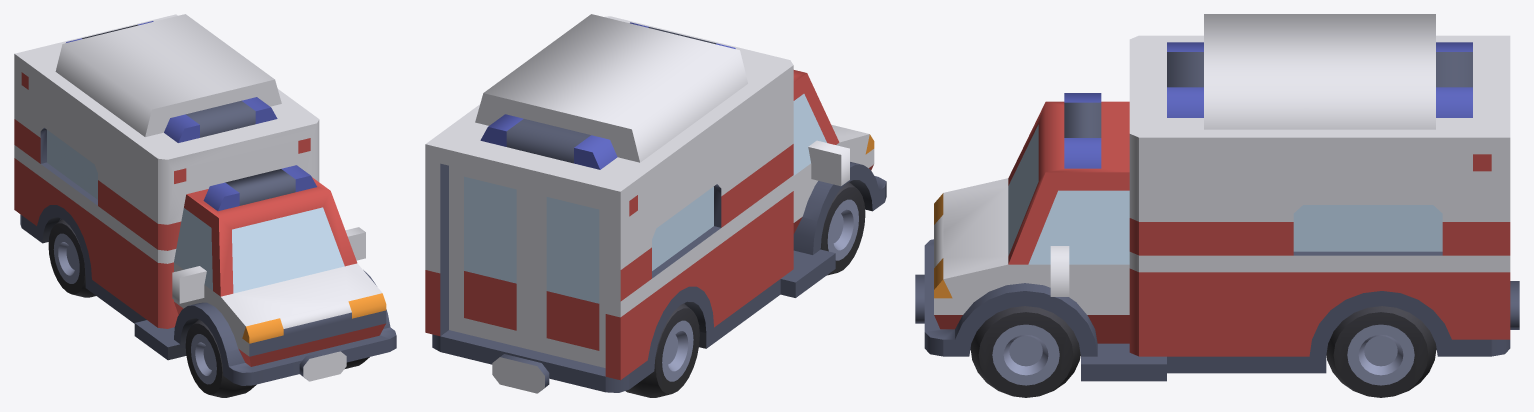
Rendered from vehicle-ambulance-red.glb.
The picture shows the model from 3 angles, left to right: view 1: azimuth 30°, elevation 25°; view 2: azimuth 150°, elevation 25°; view 3: azimuth 270°, elevation 25°; orthographic projection. The views are drawn at different scales.
Parts seen in each view (by area): view 1: body, wheel-front-right, wheel-back-right; view 2: body, wheel-back-right, wheel-front-right; view 3: body, wheel-back-left, wheel-front-left.
Part boxes in pixels (x1,y1,x2,y2): body: (14, 14, 396, 385); wheel-front-right: (185, 319, 256, 397); wheel-back-right: (48, 219, 95, 297); body: (425, 14, 886, 393); wheel-back-right: (625, 303, 699, 397); wheel-front-right: (820, 182, 865, 275); body: (915, 14, 1519, 381); wheel-back-left: (1326, 306, 1436, 397); wheel-front-left: (970, 306, 1080, 397).
Size of the model in its own units: 1.5 by 1.8 by 3.25.
1 material, 1 textured.
